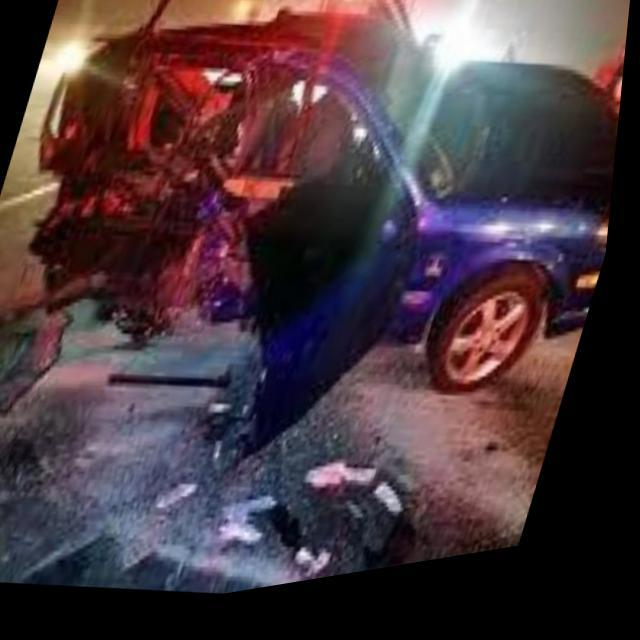crash: (36, 41, 436, 473)
